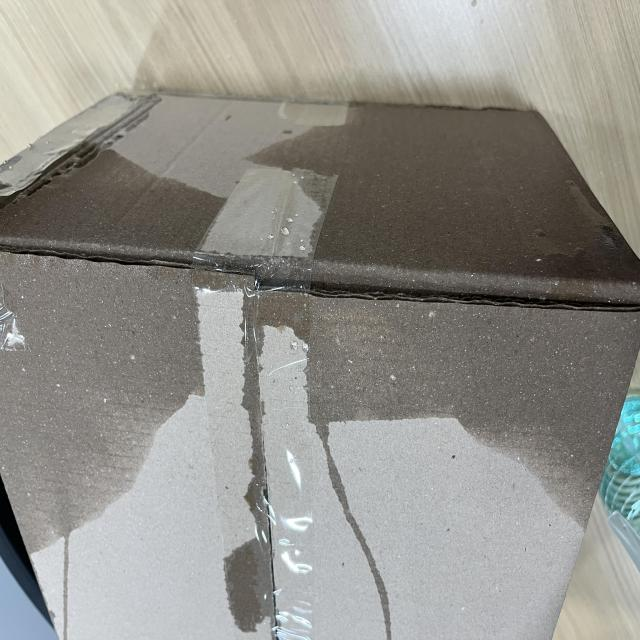wet: (24, 4, 634, 551)
